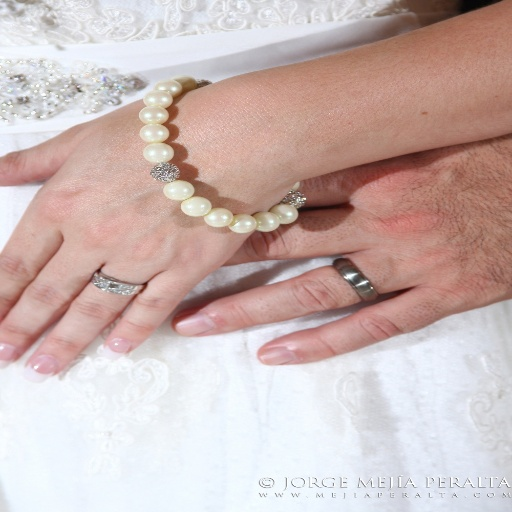hand: (169, 135, 511, 365)
